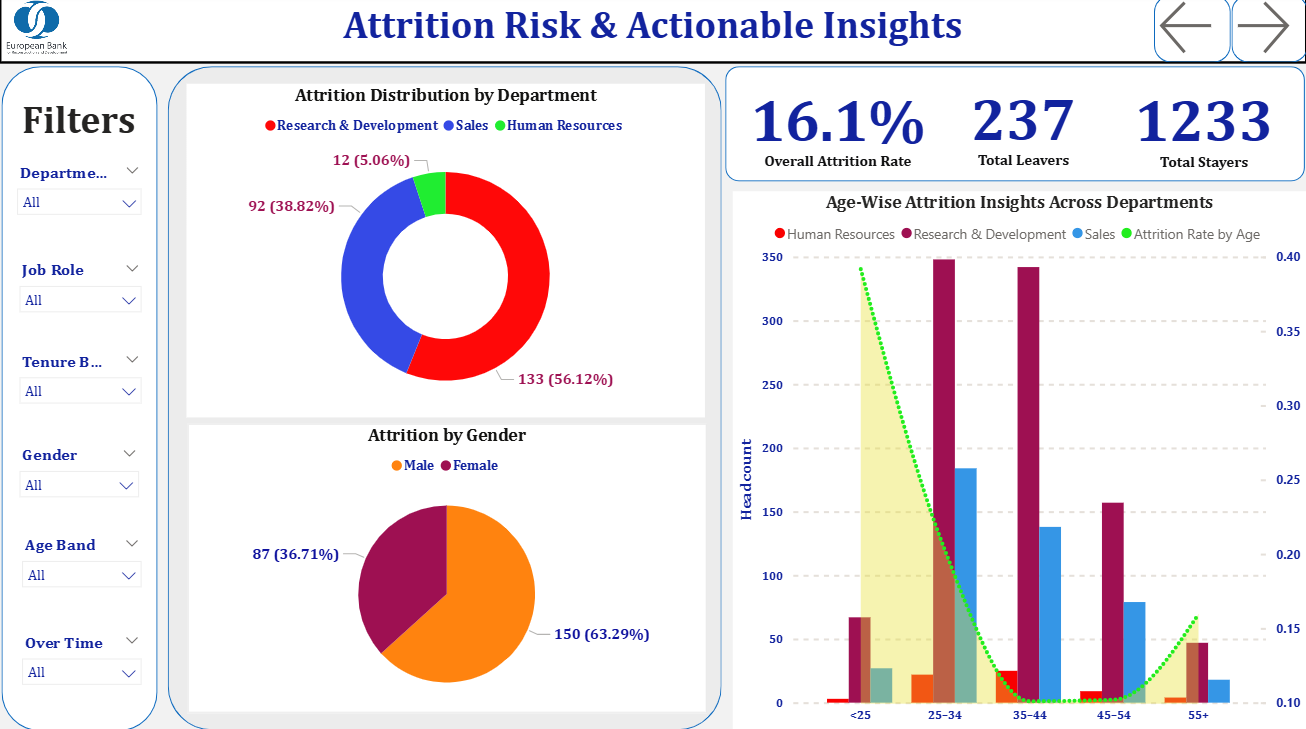

This screenshot's page, from the dashboard's own definition file:
{"tool":"powerbi","page":{"name":"Attrition Risk & Action View","canvas":[1280,720],"ordinal":3},"visuals":[{"type":"shape","box":[2.6,69.8,152.6,650.5],"z":0},{"type":"shape","box":[711,70.1,567,112.7],"z":1000},{"type":"shape","box":[165.2,70.1,542,649.6],"z":2000},{"type":"textbox","box":[7.5,95.1,141.4,56.3],"z":3000},{"type":"textbox","box":[0,0,1280.3,67.2],"z":4000},{"type":"actionButton","box":[1130.3,0,77.6,63.4],"z":5000},{"type":"actionButton","box":[1204,0,76.3,63.4],"z":6000},{"type":"shape","box":[1130.3,0,75,66],"z":7000},{"type":"shape","box":[1205.3,0,75,66],"z":8000},{"type":"lineClusteredColumnComboChart","title":"Age-Wise Attrition Insights Across Departments","fields":{"Category":["Attrition Data.Age Band"],"Y":["KPI Measures.Headcount"],"Y2":["KPI Measures.Attrition Rate by Age"],"Series":["Attrition Data.Department"]},"box":[717.2,191.5,560.8,528.2],"z":9000},{"type":"card","fields":{"Values":["KPI Measures.Overall Attrition Rate"]},"box":[728.5,75.9,184,101.4],"z":10000},{"type":"card","fields":{"Values":["KPI Measures.Total Leavers"]},"box":[913.8,72.6,177.7,106.4],"z":11000},{"type":"card","fields":{"Values":["KPI Measures.Total Stayers"]},"box":[1091.5,76.6,174,100.1],"z":12000},{"type":"donutChart","title":"Attrition Distribution by Department","fields":{"Y":["KPI Measures.Leaver Count"],"Category":["Attrition Data.Department"]},"box":[184,86.4,506.9,326.7],"z":13000},{"type":"pieChart","title":"Attrition by Gender","fields":{"Y":["KPI Measures.Leaver Count"],"Category":["Attrition Data.Gender"]},"box":[185.3,419.3,506.9,282.9],"z":14000},{"type":"slicer","fields":{"Values":["Attrition Data.Department"]},"box":[7.8,159.1,142.3,66],"z":15000},{"type":"slicer","fields":{"Values":["Attrition Data.Job Role"]},"box":[10.3,254.8,139.7,59.5],"z":16000},{"type":"slicer","fields":{"Values":["Attrition Data.Age Band"]},"box":[11.6,523.7,137.1,64.7],"z":17000},{"type":"slicer","fields":{"Values":["Attrition Data.Tenure Band"]},"box":[10.3,344,139.7,62.1],"z":18000},{"type":"slicer","fields":{"Values":["Attrition Data.Gender"]},"box":[10.3,435.8,137.1,59.5],"z":19000},{"type":"slicer","fields":{"Values":["Attrition Data.Over Time"]},"box":[11.6,618.1,137.1,58.2],"z":20000},{"type":"image","box":[2.4,0,70.9,63.6],"z":21000}]}

Visuals, with their boxes in screenshot pixels (x1, y1, x2, y2), scaled from the page's 1280x720 canvas onto the 1306x729 screenshot:
shape: (3,71,158,728)
shape: (725,71,1304,185)
shape: (169,71,722,728)
textbox: (8,96,152,153)
textbox: (0,0,1305,68)
actionButton: (1153,0,1232,64)
actionButton: (1228,0,1305,64)
shape: (1153,0,1230,67)
shape: (1230,0,1305,67)
"Age-Wise Attrition Insights Across Departments" lineClusteredColumnComboChart: (732,194,1304,728)
card - KPI Measures.Overall Attrition Rate: (743,77,931,180)
card - KPI Measures.Total Leavers: (932,74,1114,181)
card - KPI Measures.Total Stayers: (1114,78,1291,179)
"Attrition Distribution by Department" donutChart: (188,87,705,418)
"Attrition by Gender" pieChart: (189,425,706,711)
slicer - Attrition Data.Department: (8,161,153,228)
slicer - Attrition Data.Job Role: (11,258,153,318)
slicer - Attrition Data.Age Band: (12,530,152,596)
slicer - Attrition Data.Tenure Band: (11,348,153,411)
slicer - Attrition Data.Gender: (11,441,150,501)
slicer - Attrition Data.Over Time: (12,626,152,685)
image: (2,0,75,64)
